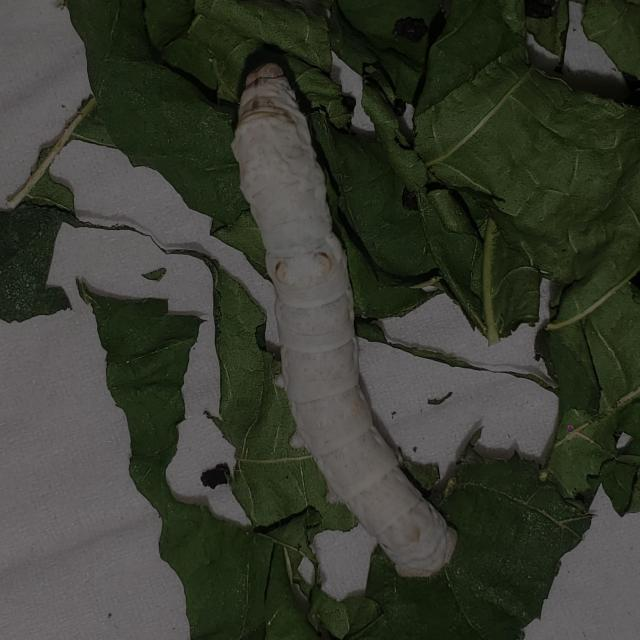Healthy: (218, 43, 482, 600)
